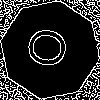O: (25, 25, 78, 72)
